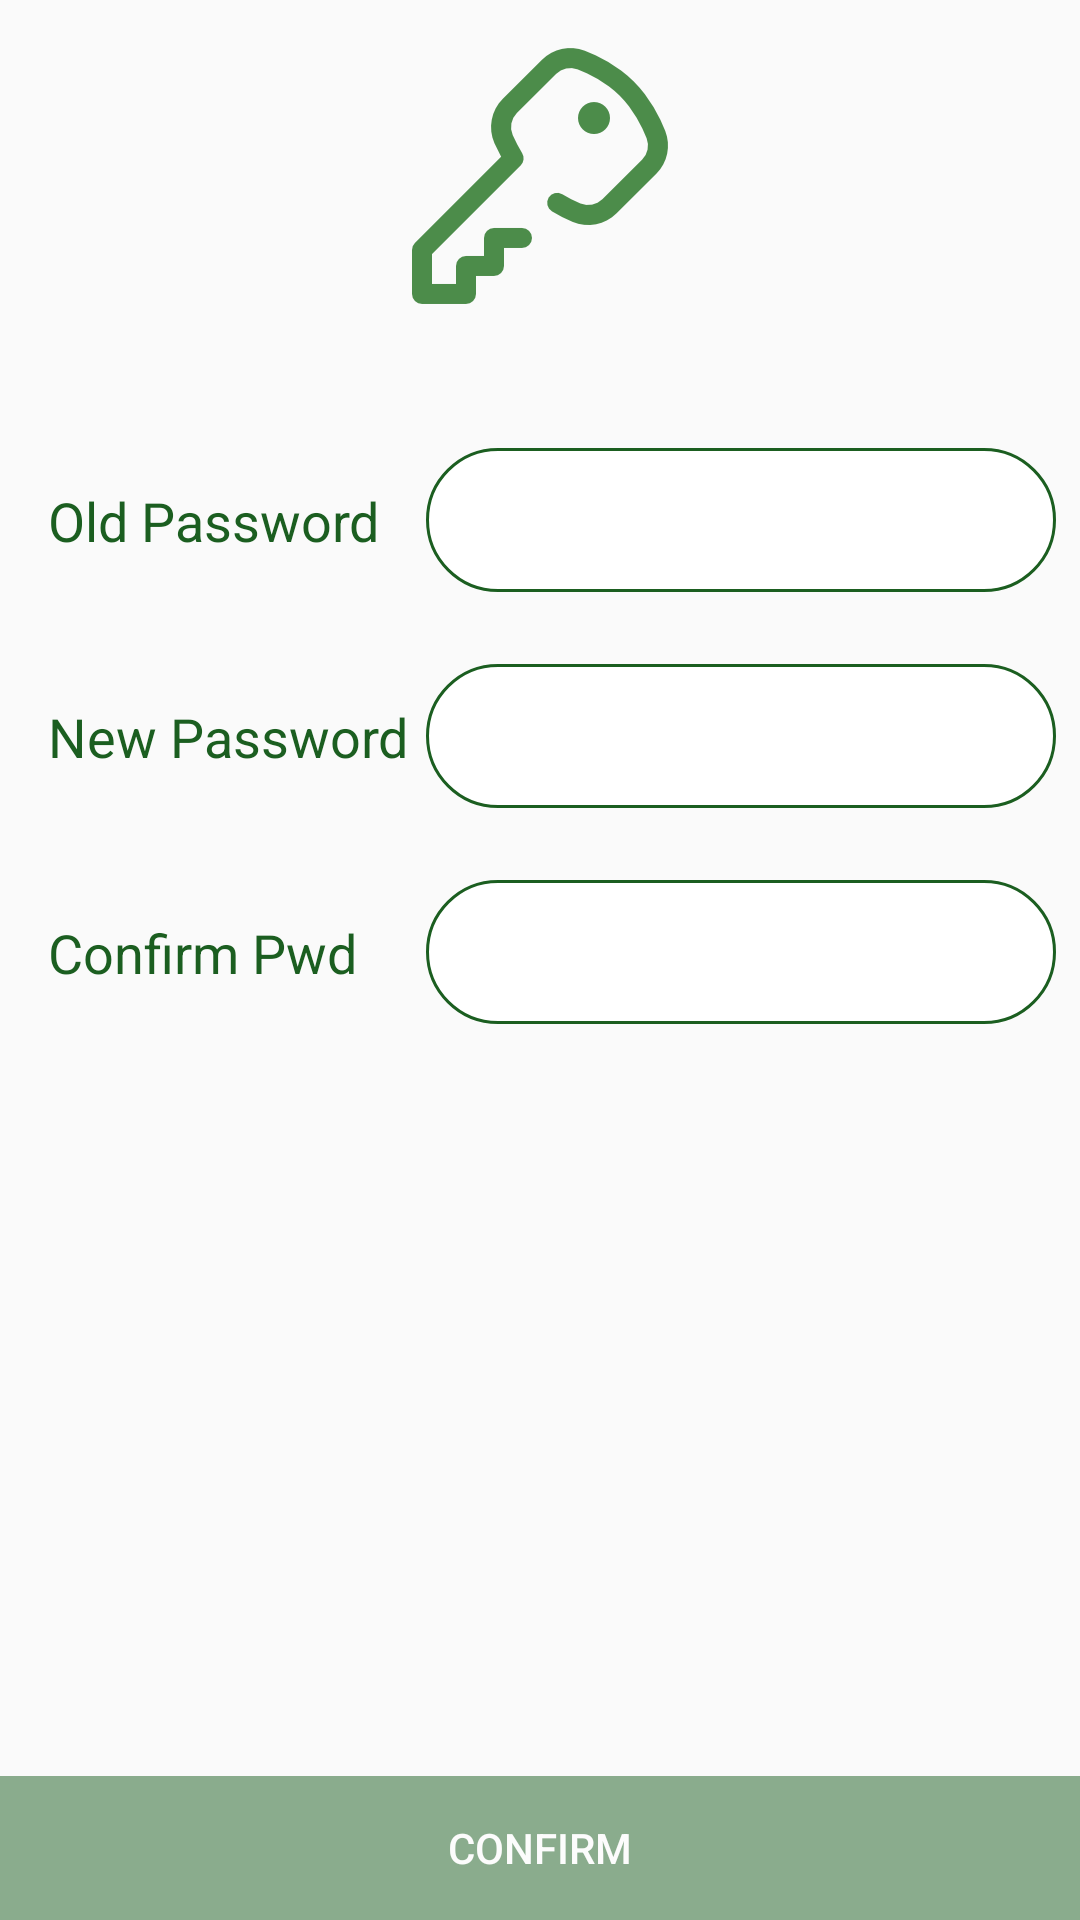

Named icons in this screenshot (1080×1920) and their bounding boxes, (x1, y1, x2, y2):
key: (412, 48, 668, 304)
